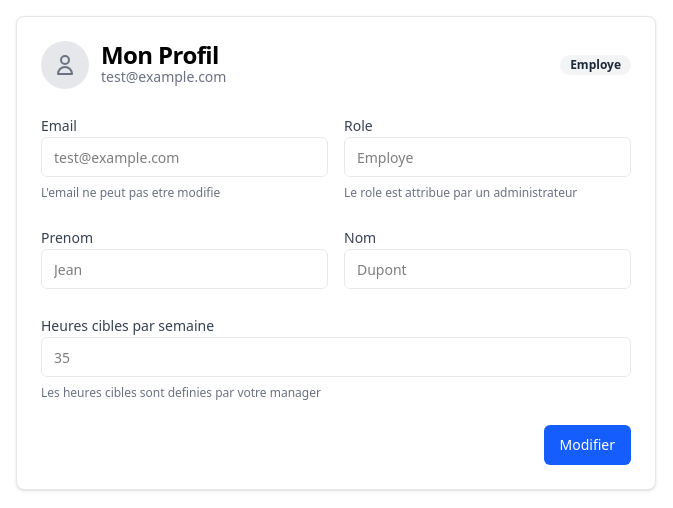
Test case: ProfilePage › Loading State › shows loading state during profile update
Expected: the heading "Mon Profil" is shown, [101,43,226,67]
What coordinates should you click on to do the following:
click the button "Modifier"
I would click on:
 (587, 445)
Its box is [544,425,631,465].
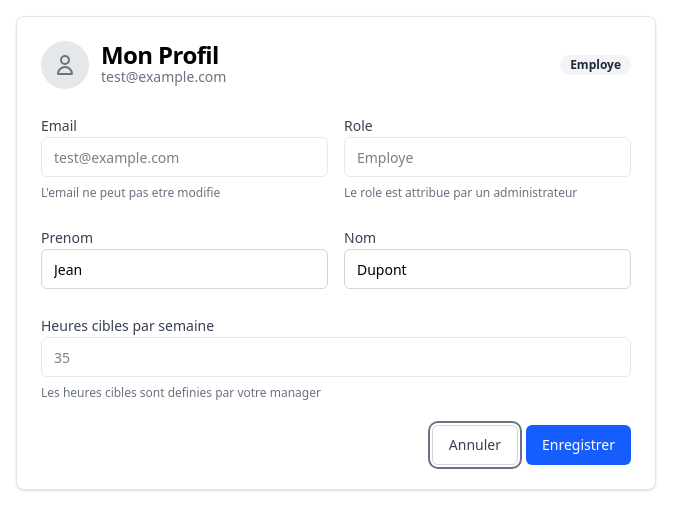
What coordinates should you click on to do the following:
click the button "Enregistrer"
I would click on:
 (578, 445)
Its box is [526,425,631,465].
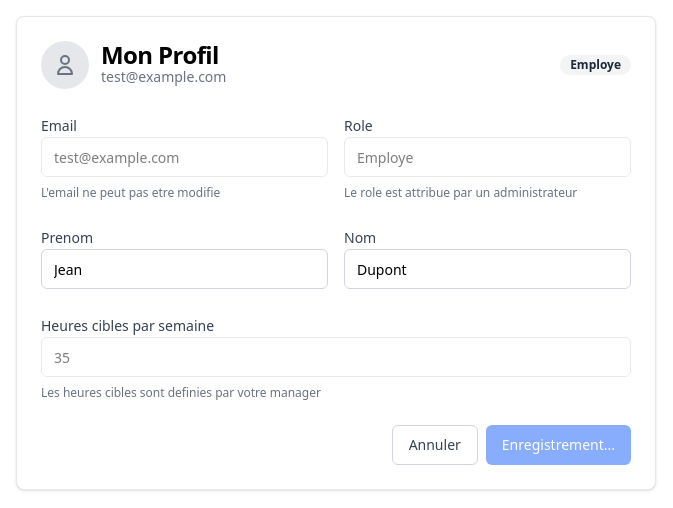
Expected: the button "Enregistrement..." is disabled, [486,425,631,465]
